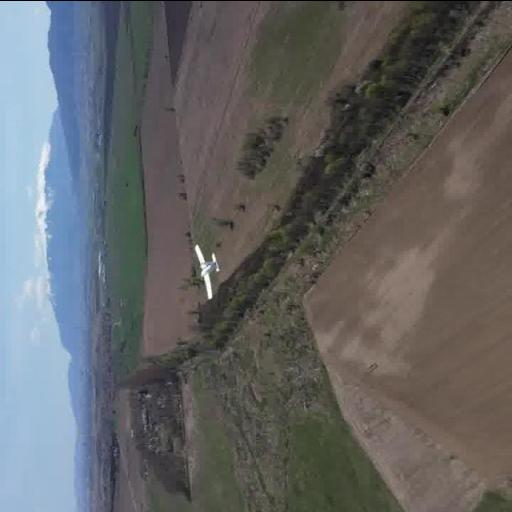uav: (184, 241, 234, 300)
